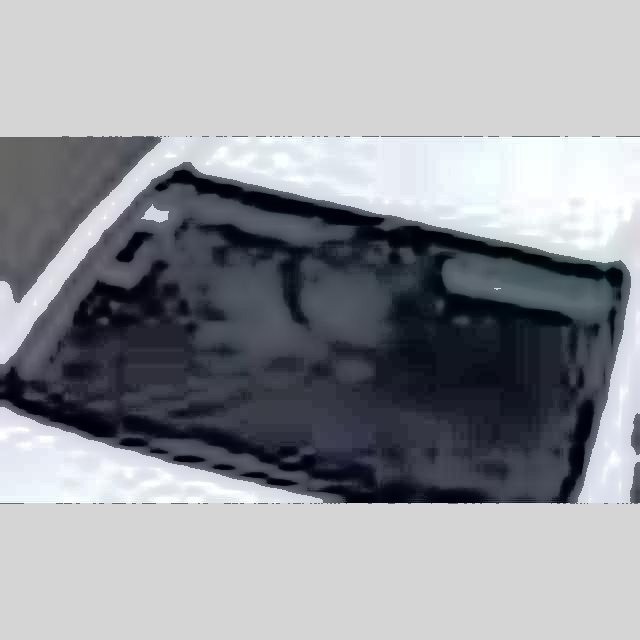pakai: (156, 246, 398, 402)
